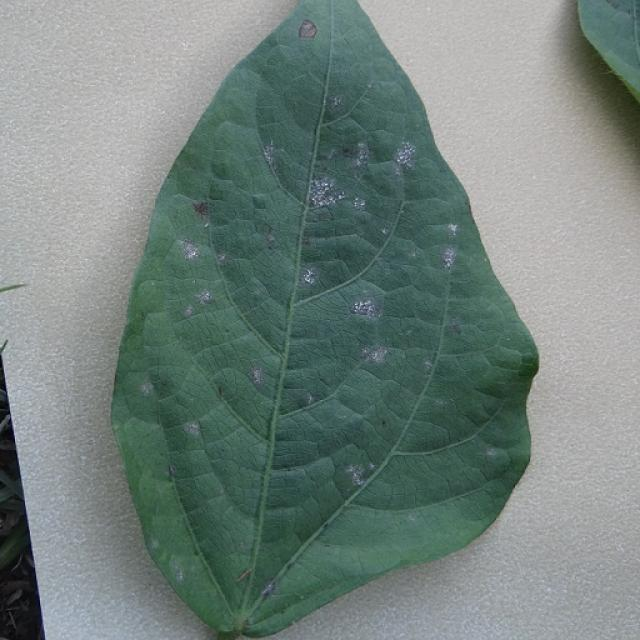Blackgram: (112, 0, 538, 635)
Powdery_Mildew: (298, 122, 412, 240), (336, 274, 419, 379), (172, 228, 235, 320), (306, 172, 355, 211), (310, 173, 348, 208), (347, 140, 370, 167), (351, 297, 378, 318), (395, 141, 417, 166), (361, 344, 387, 364), (180, 239, 202, 261), (297, 19, 318, 39), (441, 245, 457, 268), (193, 201, 210, 221), (327, 92, 345, 110), (260, 579, 277, 598), (170, 560, 185, 581), (183, 420, 201, 437), (249, 366, 264, 385), (195, 290, 213, 305), (345, 464, 361, 479), (302, 270, 316, 285), (264, 142, 275, 161), (140, 381, 154, 395), (485, 447, 499, 460), (316, 180, 330, 193), (422, 359, 434, 372), (394, 163, 404, 178), (448, 223, 459, 235), (312, 194, 323, 206), (266, 232, 276, 245), (354, 475, 364, 486), (184, 305, 193, 317), (218, 252, 227, 263), (307, 394, 315, 405), (381, 227, 389, 235)
